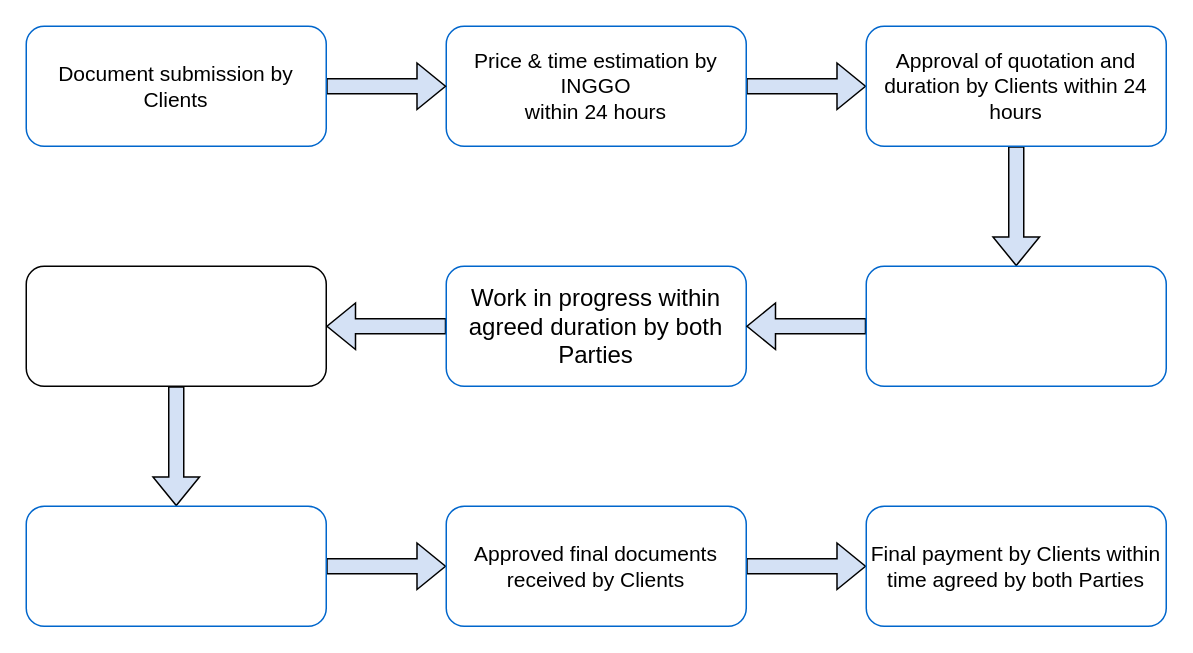
This 1193x653 diagram has some shape labels left out. Here are the shapes that lost their labels. From the top down, the box of each, then its label:
(25, 265, 326, 386): Document submission to Clients
(865, 265, 1166, 386): Payment by Clients within 24 hours (50% deposit)
(25, 505, 326, 626): Review by Clients (free revision within 2x24 hours)
